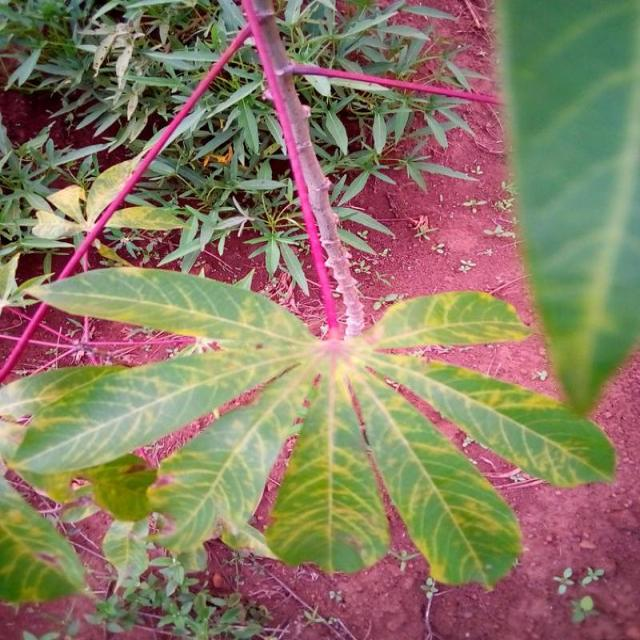cassava leaf: (2, 1, 624, 598)
